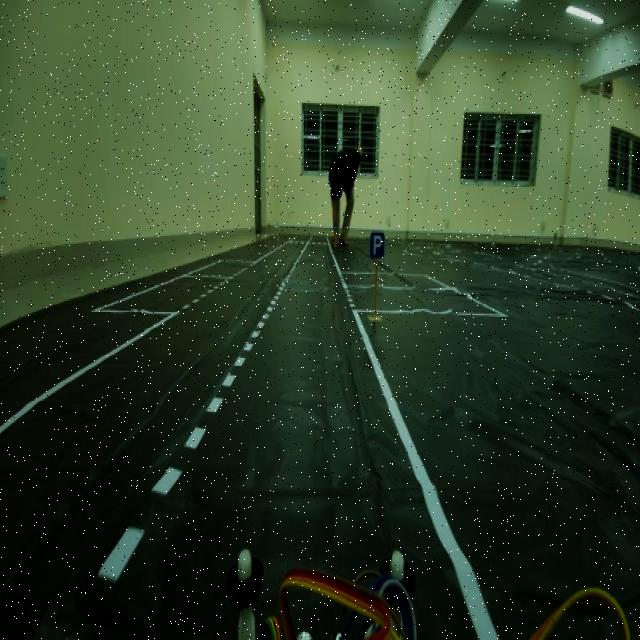parking: (368, 224, 388, 264)
